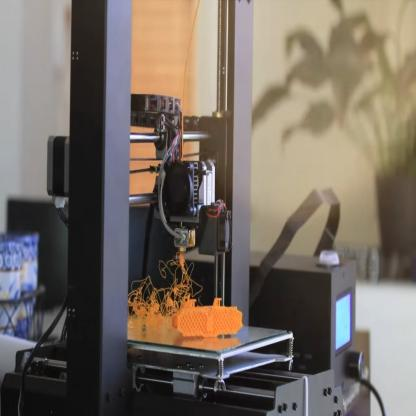fail: (132, 250, 203, 328)
